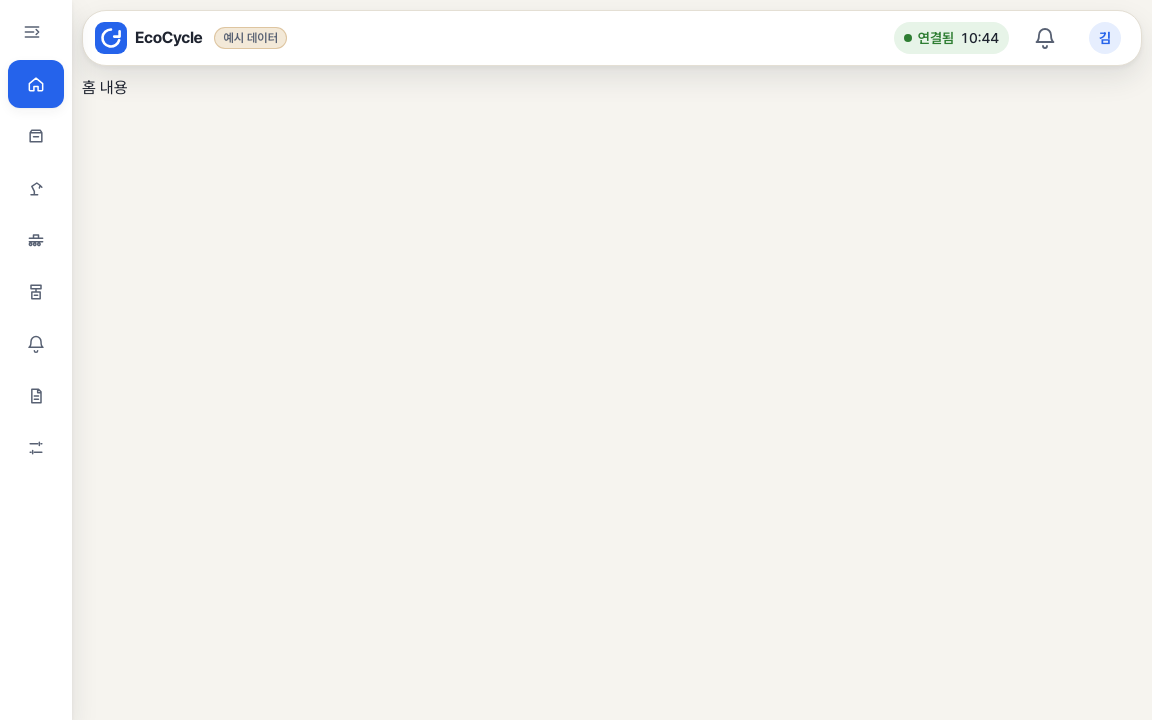
Scenario: AppShell › 상단 바의 사용자 메뉴에 이름과 권한 이름, 설정(화질), 로그아웃이 있다
Click the button named "김현장 (작업자) 메뉴": (1105, 38) [1081,14,1129,62]
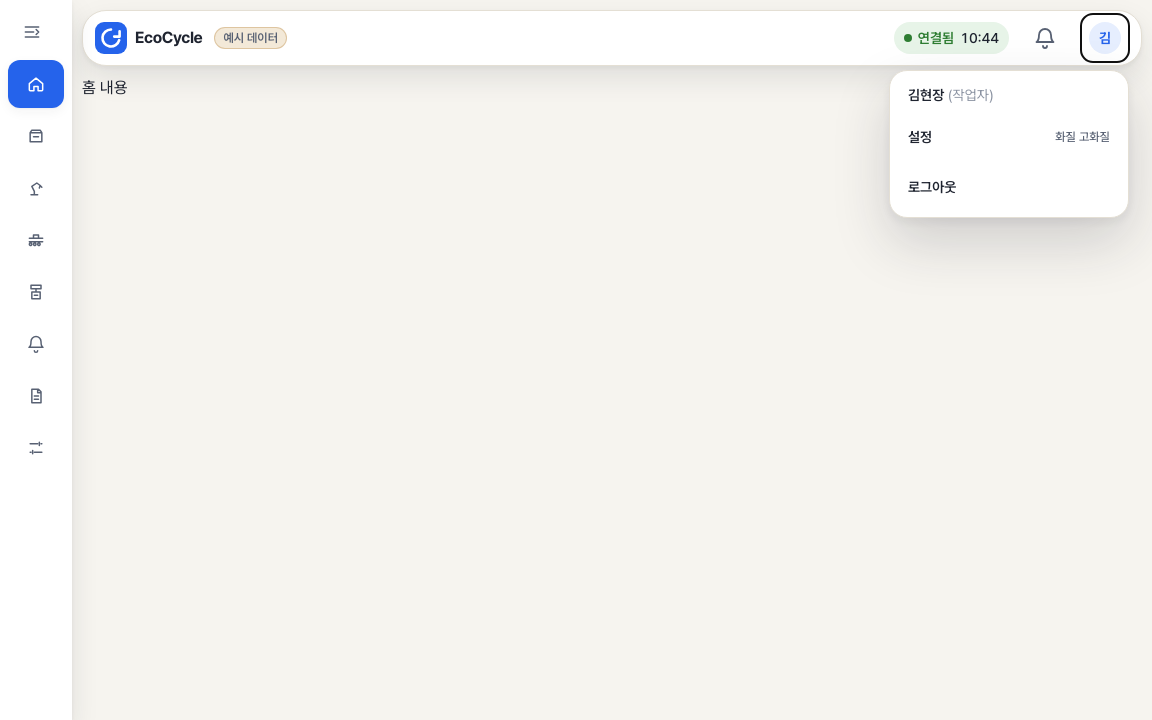
Check: the menu named "사용자 메뉴" shows "김현장 (작업자)", box [889,70,1129,218]
Check: the menu item "로그아웃" is shown, box [896,163,1122,211]
Press Escape
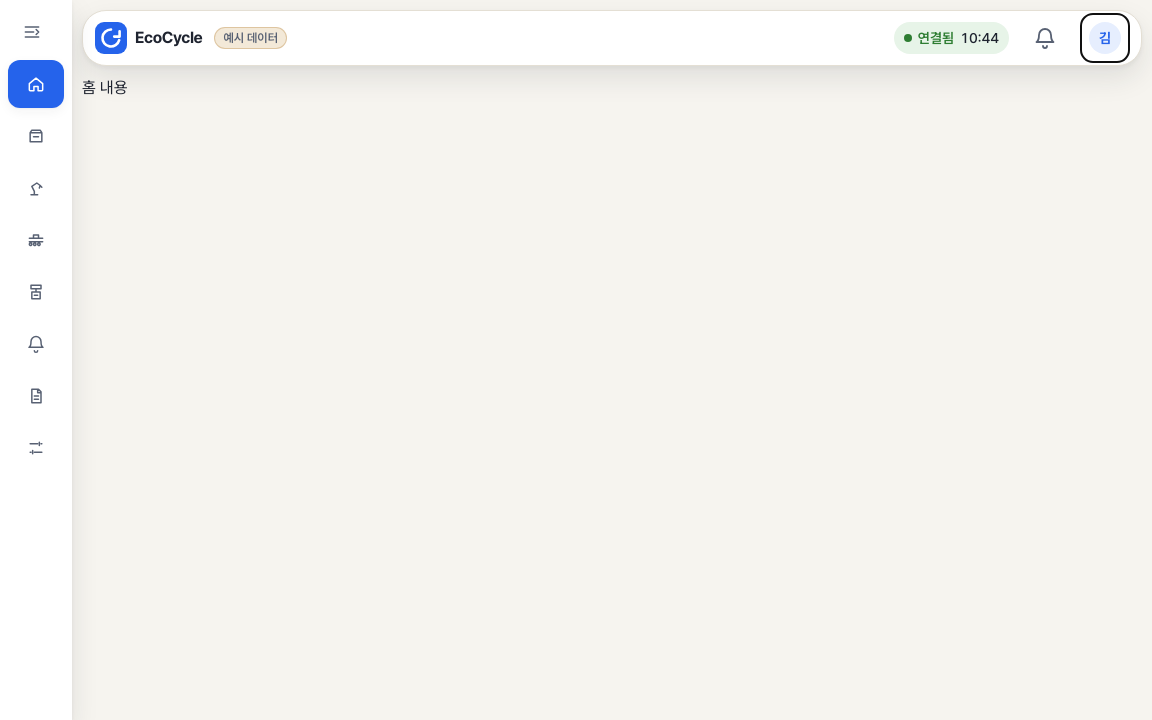
Check: the menu is gone
